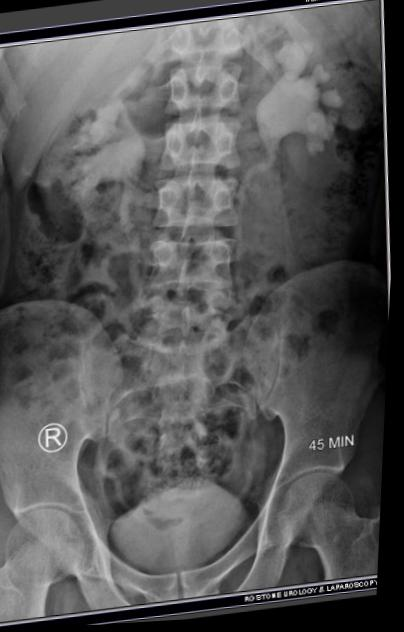bladder: (91, 486, 260, 606)
left kidney: (251, 7, 369, 196)
vertebrae: (156, 36, 250, 111)
